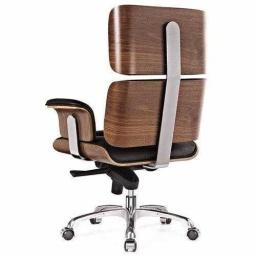Chair: (48, 6, 204, 252)
